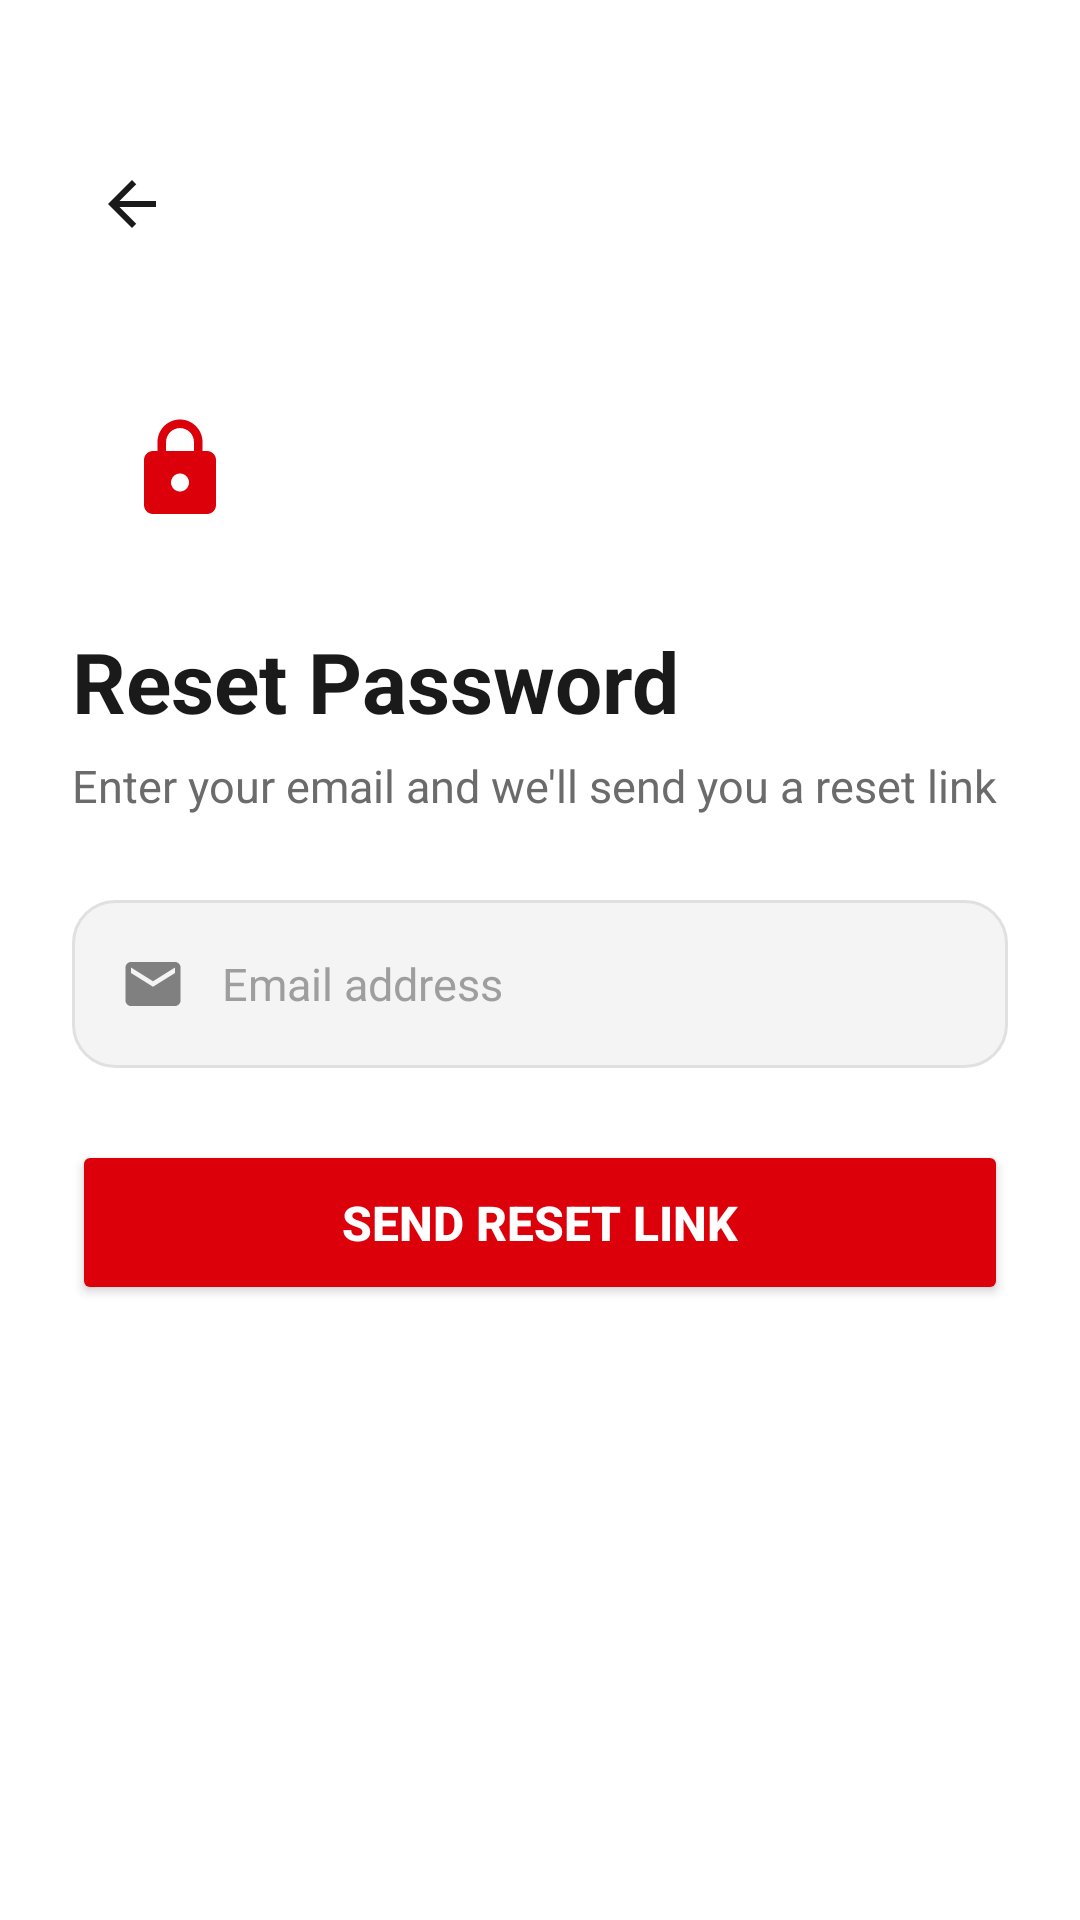

Icons on this 1080 x 1920 Android screen, each with its box as [x1,y1,x2,y2]:
Back: [108,180,156,228]
